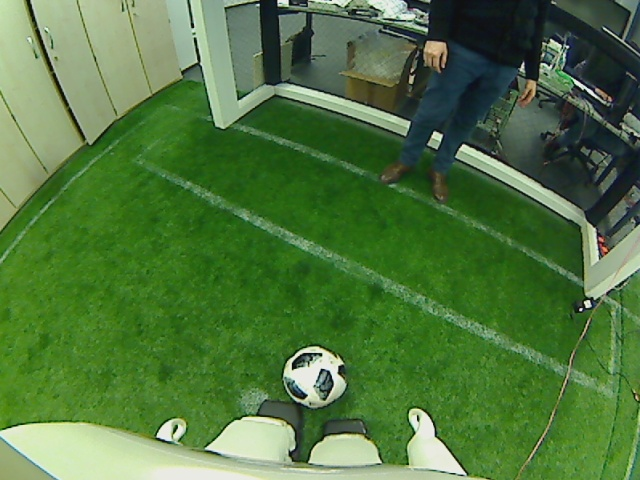ball: (281, 341, 348, 410)
